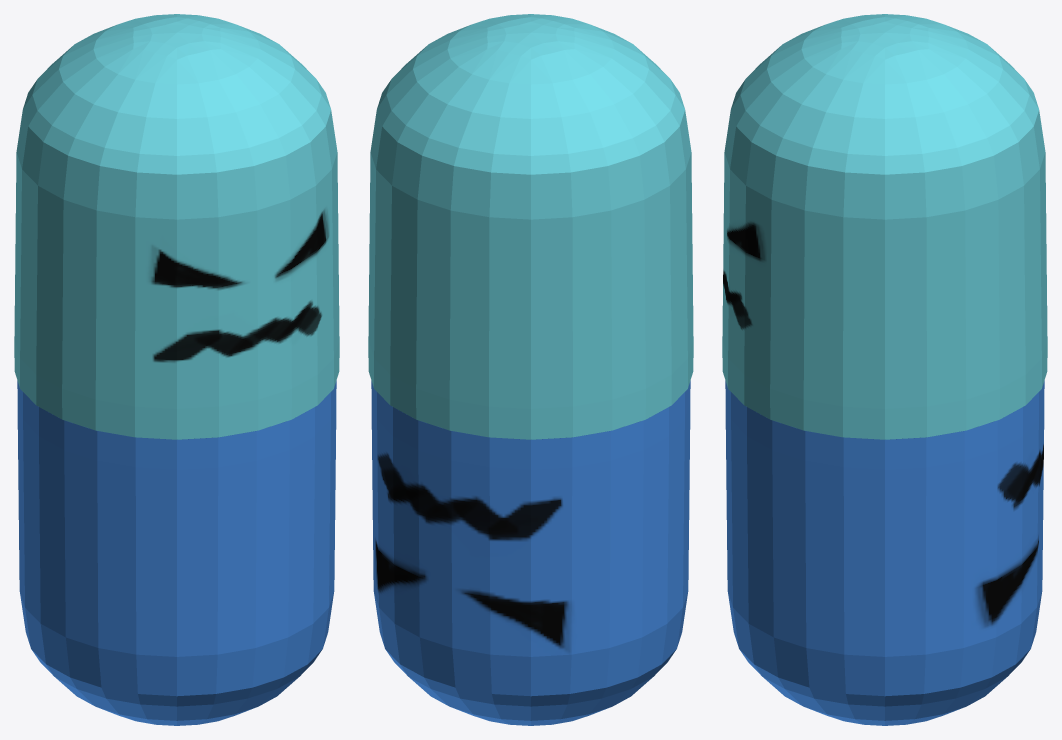
File: basic_pill.obj
The picture shows the model from 3 angles, left to right: view 1: azimuth 30°, elevation 25°; view 2: azimuth 150°, elevation 25°; view 3: azimuth 270°, elevation 25°; orthographic projection.
Parts seen in each view (by area): view 1: pill_Face; view 2: pill_Face; view 3: pill_Face.
Part boxes in pixels (<box>): pill_Face: <box>14,14,339,725</box>; pill_Face: <box>368,14,693,725</box>; pill_Face: <box>722,14,1047,725</box>.
Size of the model in its own units: 0.8565 by 1.96 by 0.8565.
